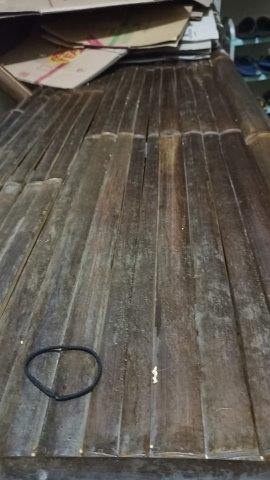kardus: (1, 4, 220, 86)
karet: (24, 345, 103, 401)
